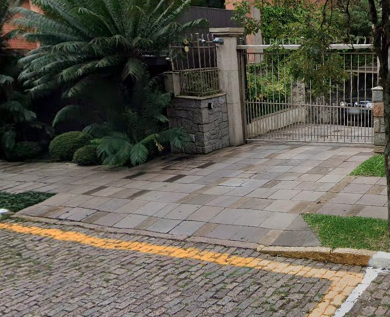vag26: (12, 183, 285, 278)
